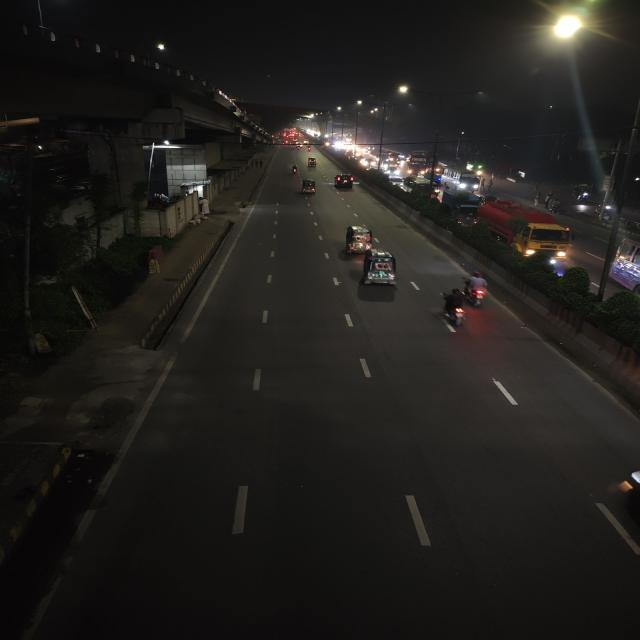bus: (444, 169, 482, 193), (406, 155, 432, 179)
car: (331, 172, 356, 192), (412, 181, 438, 197), (386, 165, 401, 177)
cng: (357, 249, 407, 296), (342, 223, 378, 257), (299, 177, 319, 196), (306, 157, 319, 169)
motorcycle: (435, 287, 471, 331), (459, 270, 498, 308), (549, 198, 563, 216), (288, 164, 300, 176)
pedestrian: (531, 192, 542, 209), (487, 178, 493, 190)
truck: (474, 198, 578, 262), (445, 190, 484, 221)
